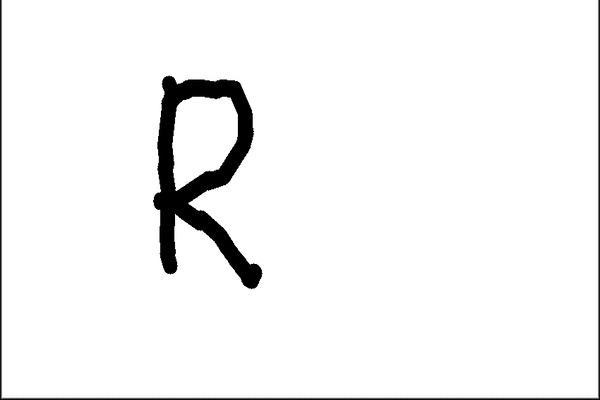R: (132, 66, 266, 304)
